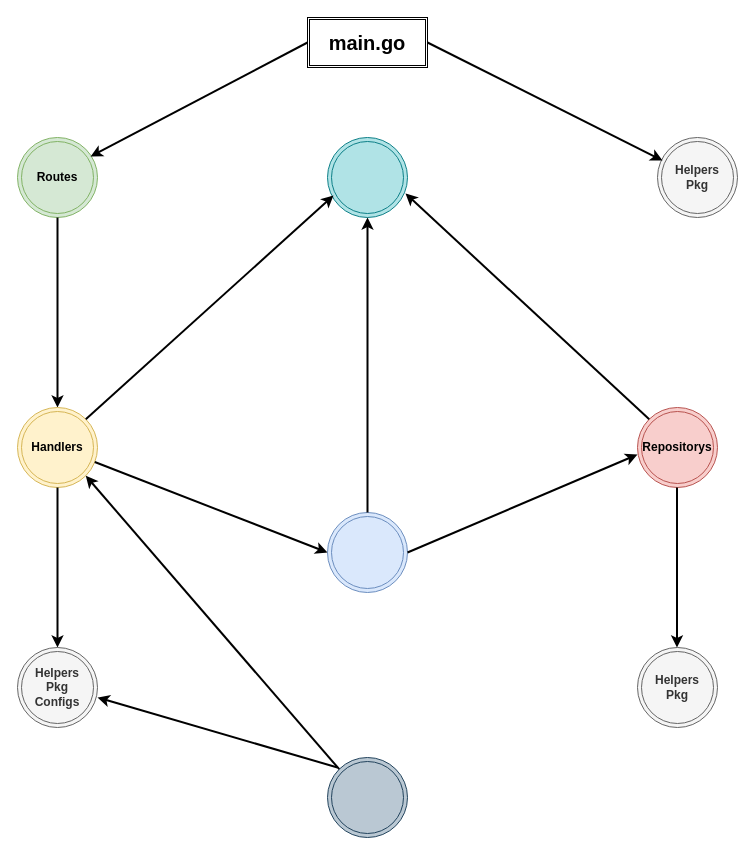
This 755x855 diagram has some shape labels left out. Each missing label, with the box of its shape:
Schemas Models: (326, 136, 408, 218)
Services: (326, 512, 408, 592)
Test: (326, 756, 408, 838)
